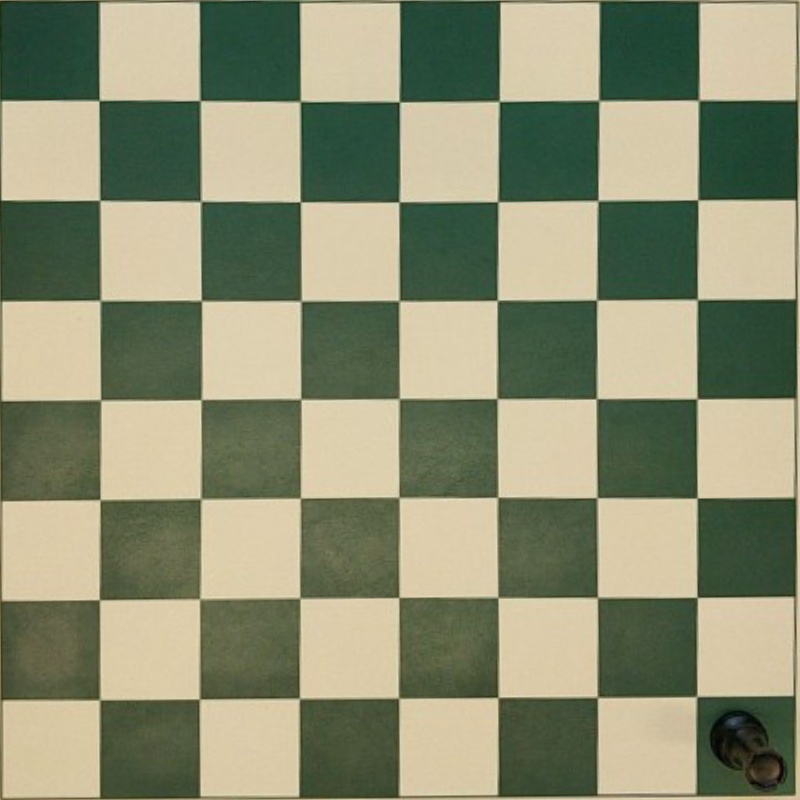black-rook: (709, 709, 786, 789)
